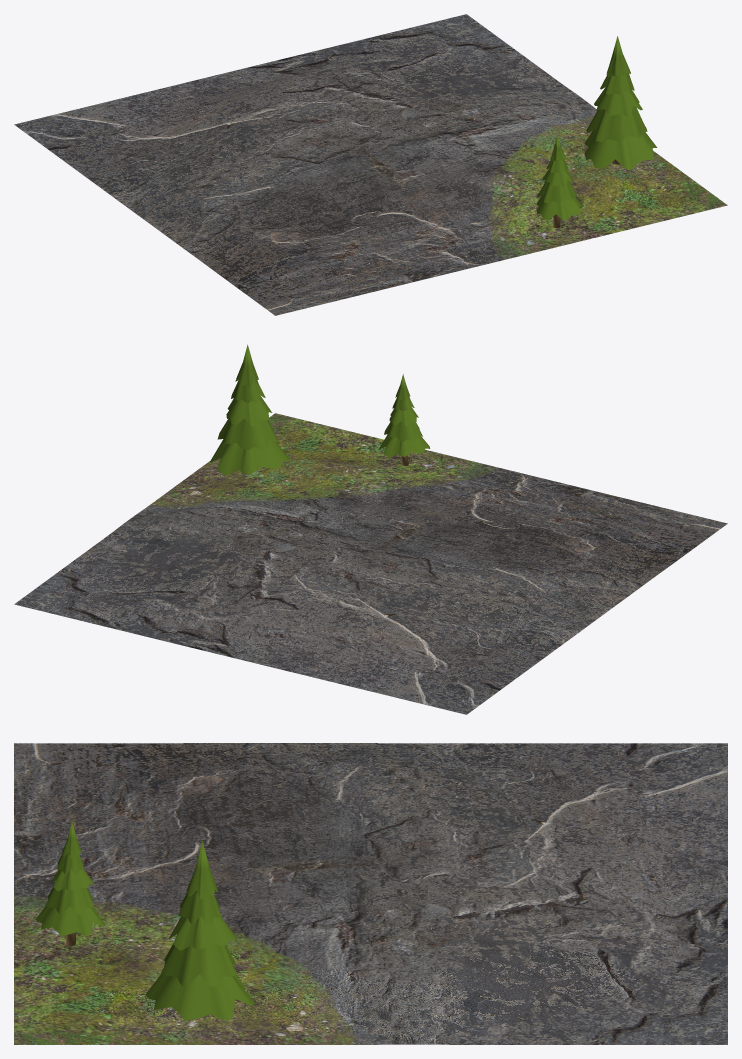
Rendered from MMMF.fbx.
3 views of the same model, one above another, from view 1: azimuth 30°, elevation 25°; view 2: azimuth 150°, elevation 25°; view 3: azimuth 270°, elevation 25° (orthographic). The views are drawn at different scales.
Visible parts, largest first — view 1: Plane, Resource_PineTree_Group.031, Resource_PineTree_Group.032, Resource_PineTree_Group.033, Resource_PineTree_Group.005, Resource_PineTree_Group.004, Resource_PineTree_Group.034, Resource_PineTree_Group.035; view 2: Plane, Resource_PineTree_Group.031, Resource_PineTree_Group.032, Resource_PineTree_Group.033, Resource_PineTree_Group.005; view 3: Plane, Resource_PineTree_Group.031, Resource_PineTree_Group.032, Resource_PineTree_Group.033, Resource_PineTree_Group.005, Resource_PineTree_Group.004, Resource_PineTree_Group.034, Resource_PineTree_Group.035, Resource_PineTree_Group.003.
Boxes of the visible parts, <box> form: Plane: <box>14,14,727,315</box>; Resource_PineTree_Group.031: <box>584,129,657,170</box>; Resource_PineTree_Group.032: <box>586,106,647,142</box>; Resource_PineTree_Group.033: <box>594,87,642,116</box>; Resource_PineTree_Group.005: <box>536,195,582,220</box>; Resource_PineTree_Group.004: <box>537,180,576,203</box>; Resource_PineTree_Group.034: <box>600,73,634,94</box>; Resource_PineTree_Group.035: <box>606,36,630,77</box>; Plane: <box>14,413,727,714</box>; Resource_PineTree_Group.031: <box>210,438,289,475</box>; Resource_PineTree_Group.032: <box>217,418,278,450</box>; Resource_PineTree_Group.033: <box>226,395,272,426</box>; Resource_PineTree_Group.005: <box>379,434,430,457</box>; Plane: <box>14,743,727,1044</box>; Resource_PineTree_Group.031: <box>145,974,254,1020</box>; Resource_PineTree_Group.032: <box>160,943,236,987</box>; Resource_PineTree_Group.033: <box>169,916,236,950</box>; Resource_PineTree_Group.005: <box>35,906,105,935</box>; Resource_PineTree_Group.004: <box>45,886,93,914</box>; Resource_PineTree_Group.034: <box>178,891,221,924</box>; Resource_PineTree_Group.035: <box>186,841,218,899</box>; Resource_PineTree_Group.003: <box>50,869,93,890</box>.
Size of the model in its own units: 500 by 141 by 500.
